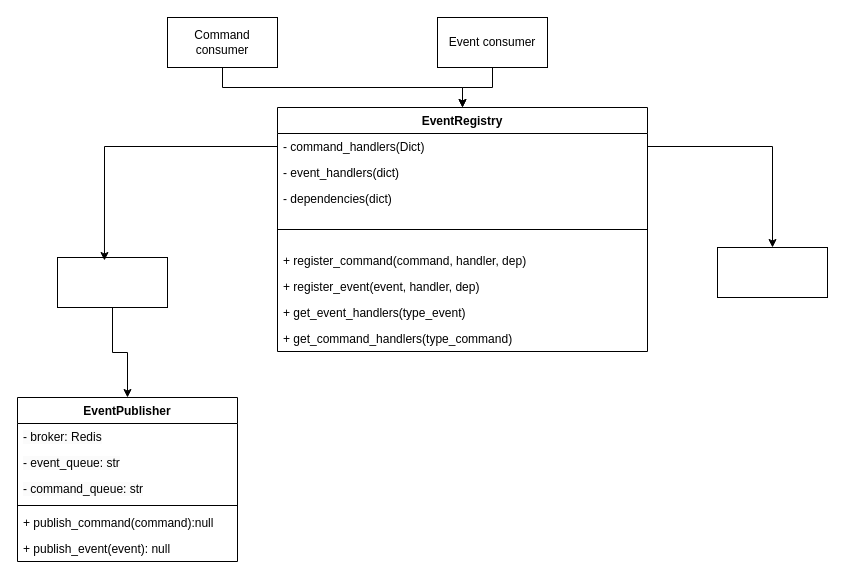
The diagram is 845 pixels wide and 582 high, and some of its shapes have lost their labels. Each missing label, with the centre of its shape:
Command handler: the point at 112,282
Event handler: the point at 772,272
